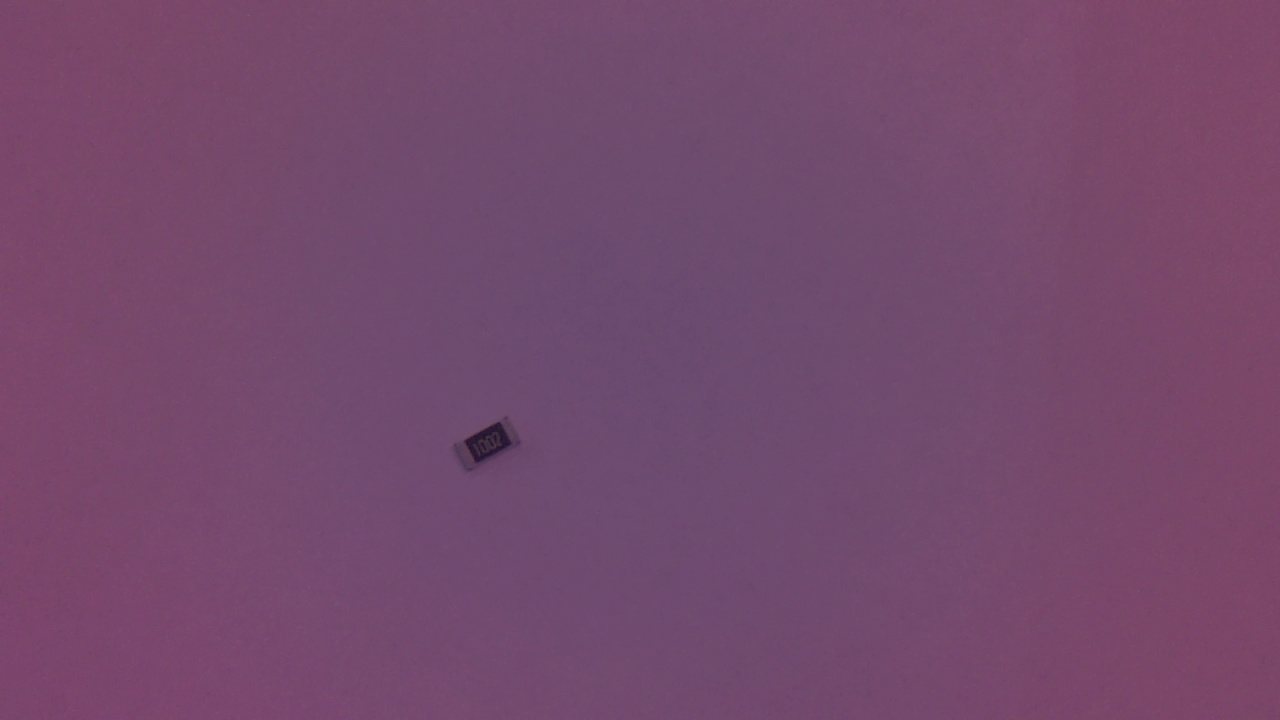Resistor: (450, 411, 533, 488)
